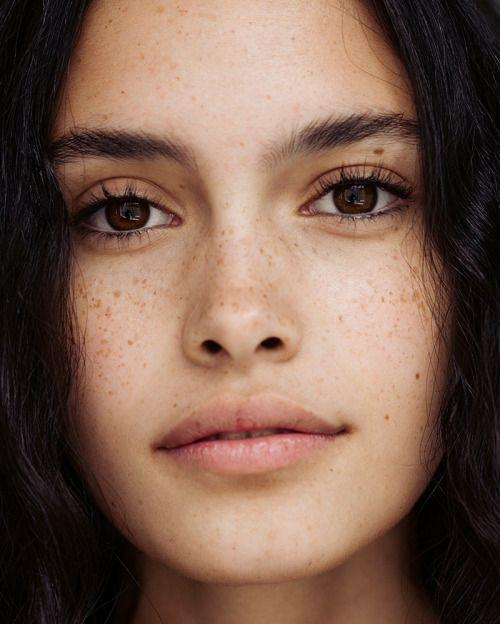Sober: (56, 13, 425, 504)
